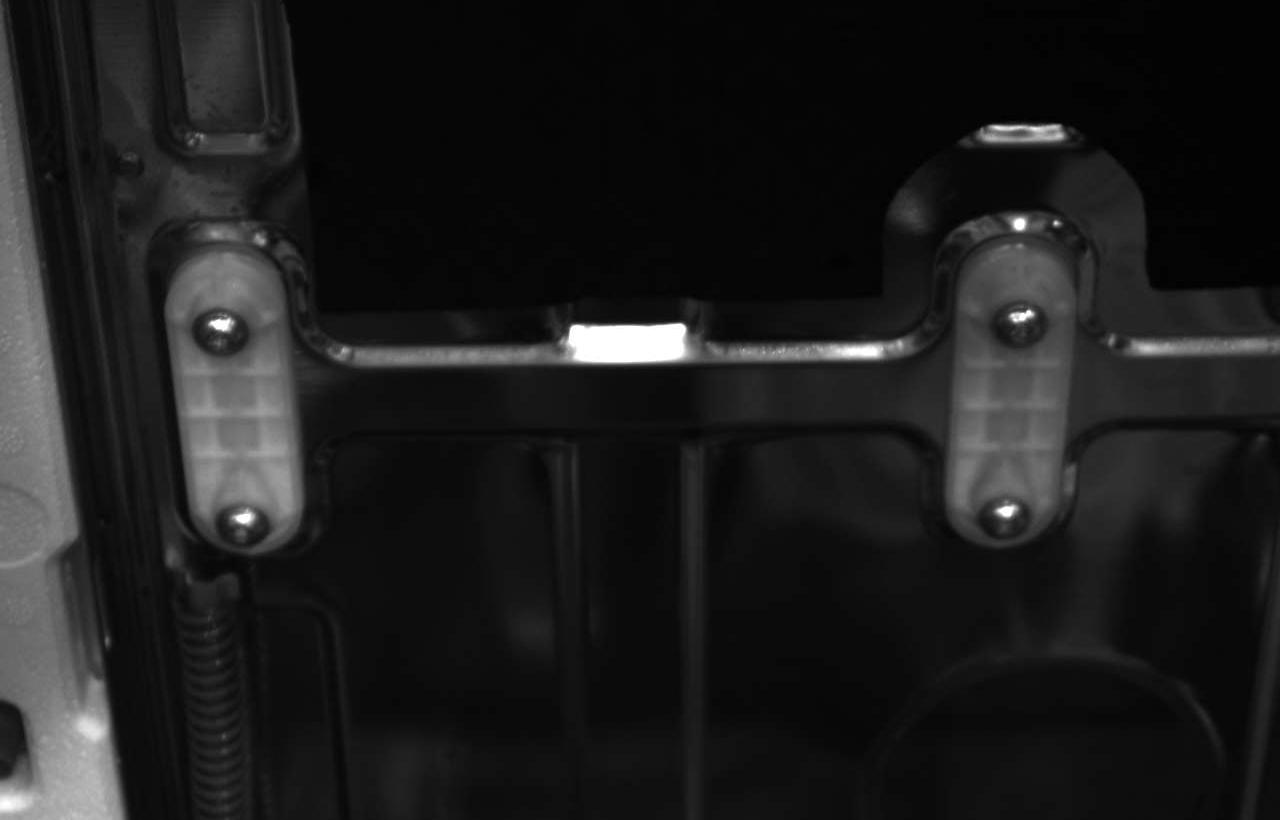vida-ok: (187, 298, 259, 365), (990, 294, 1057, 361), (974, 484, 1040, 552), (211, 497, 277, 555)
